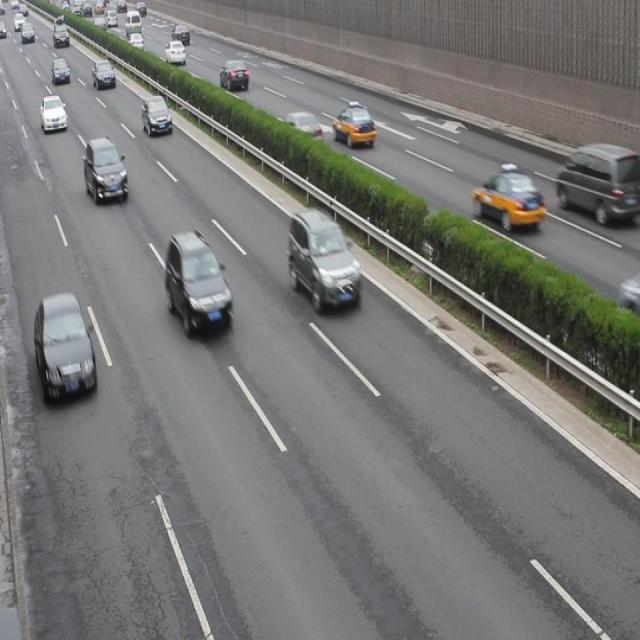car: (287, 205, 360, 313), (165, 230, 233, 337), (33, 292, 97, 404), (473, 168, 543, 234), (83, 135, 129, 204), (331, 104, 376, 150), (279, 110, 322, 154), (141, 92, 172, 138), (40, 94, 68, 135), (219, 58, 250, 95)
truck: (554, 142, 640, 224)
